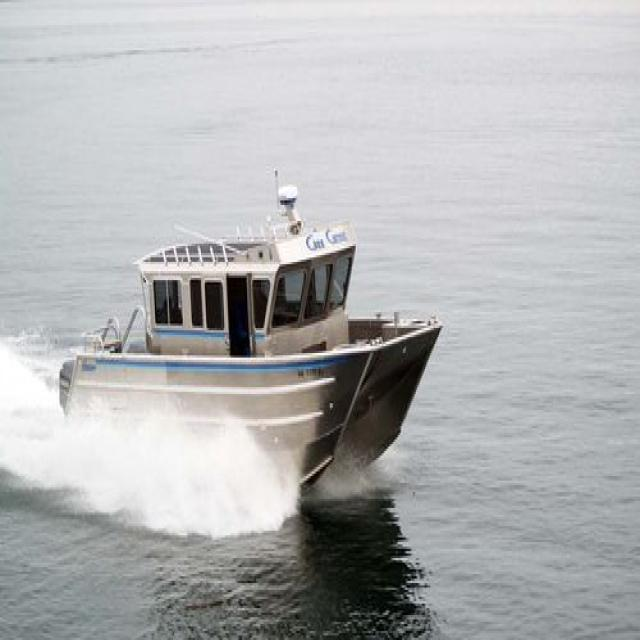houseboat: (64, 170, 439, 510)
